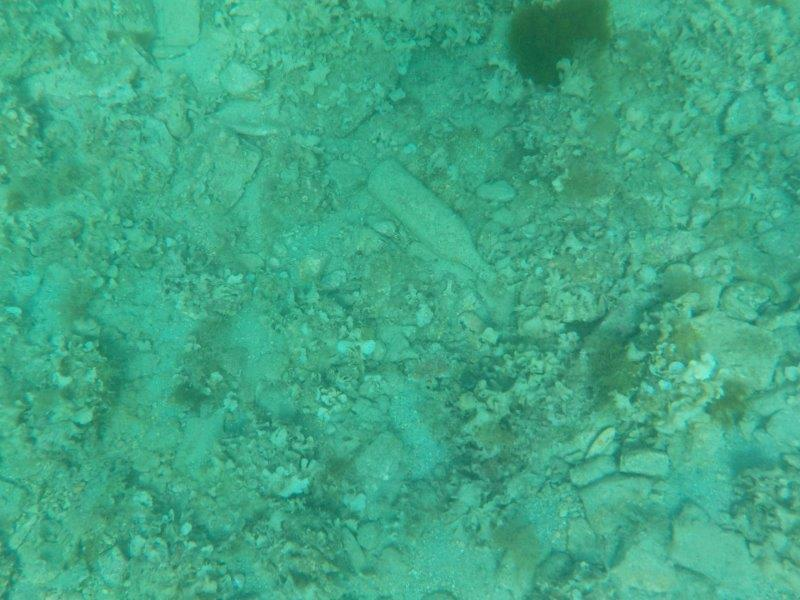bottle: (366, 157, 495, 276)
